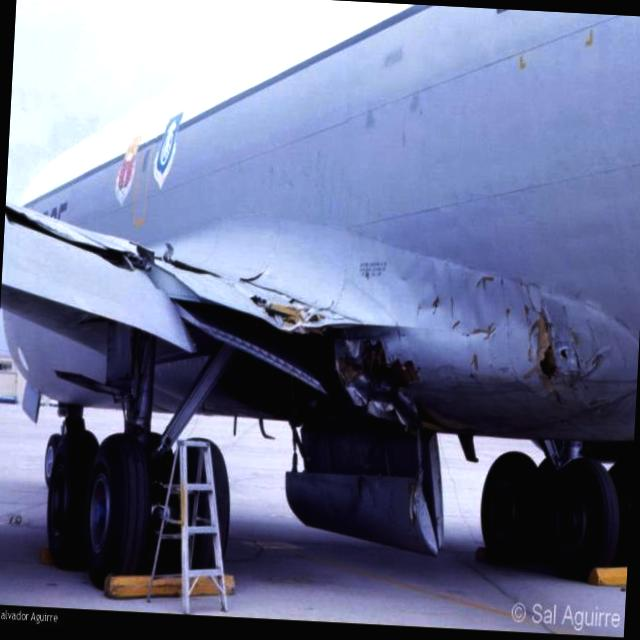dent: (440, 270, 490, 336), (493, 289, 530, 330), (404, 260, 420, 284), (423, 264, 438, 288)
